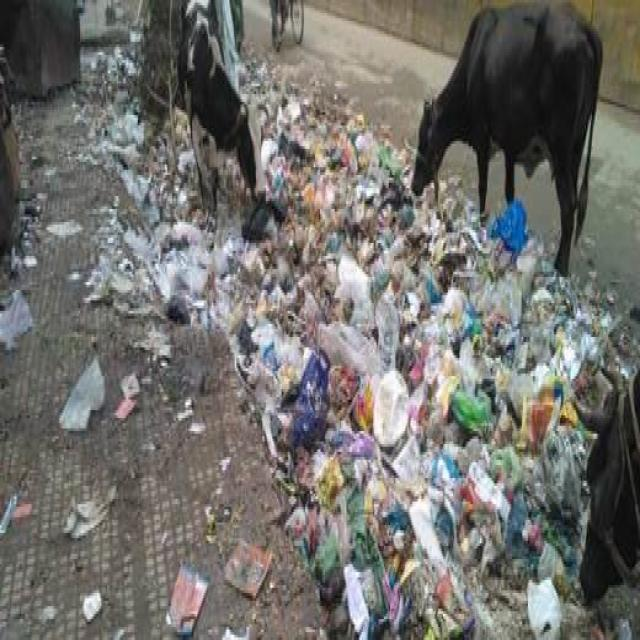garbage: (3, 26, 640, 639)
